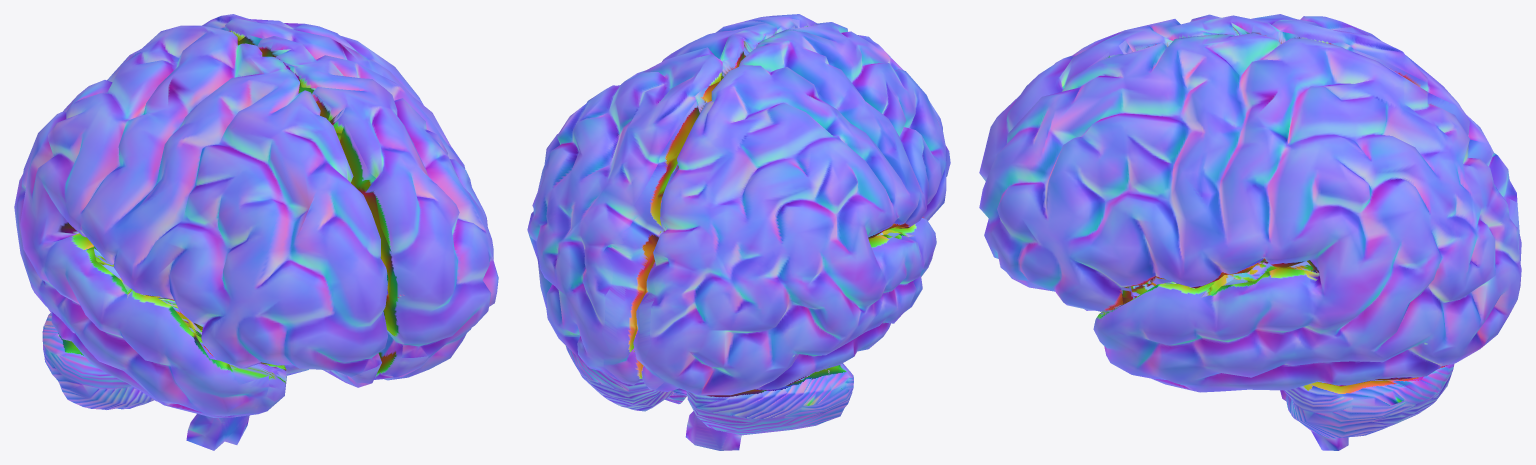
File: Brain2.glb
3 renders of one model, left to right at view 1: azimuth 30°, elevation 25°; view 2: azimuth 150°, elevation 25°; view 3: azimuth 270°, elevation 25°, orthographic. The views are drawn at different scales.
Visible parts, largest first — view 1: Brain_Part_04_BRAIN_TEXTURE_blinn2_0.004; view 2: Brain_Part_04_BRAIN_TEXTURE_blinn2_0.004; view 3: Brain_Part_04_BRAIN_TEXTURE_blinn2_0.004.
Boxes of the visible parts, x1=… form: Brain_Part_04_BRAIN_TEXTURE_blinn2_0.004: x1=14, y1=14, x2=498, y2=450; Brain_Part_04_BRAIN_TEXTURE_blinn2_0.004: x1=527, y1=14, x2=950, y2=450; Brain_Part_04_BRAIN_TEXTURE_blinn2_0.004: x1=979, y1=14, x2=1521, y2=450.
Bounding box in the file's own units: 1.06 × 1.12 × 1.32.
1 material, 1 textured.
